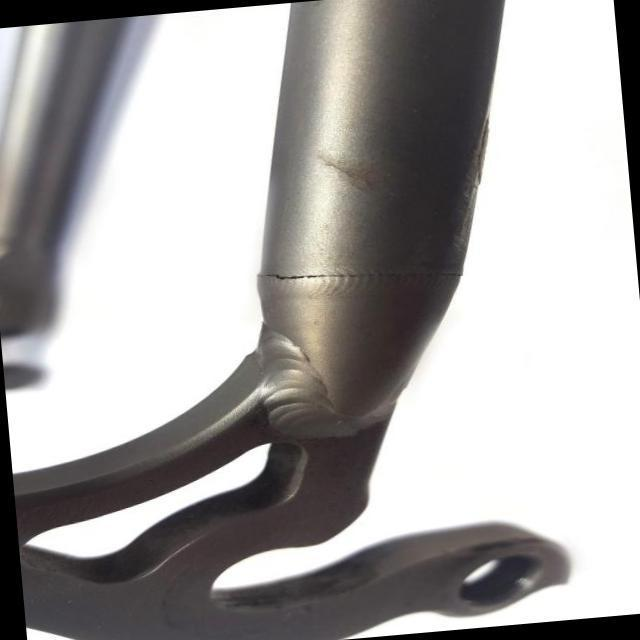defect: (252, 271, 465, 279)
